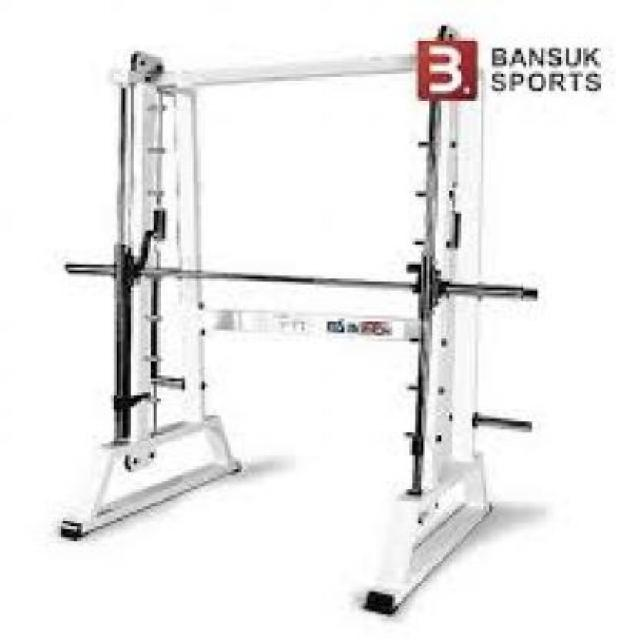smith machine: (63, 101, 537, 617)
